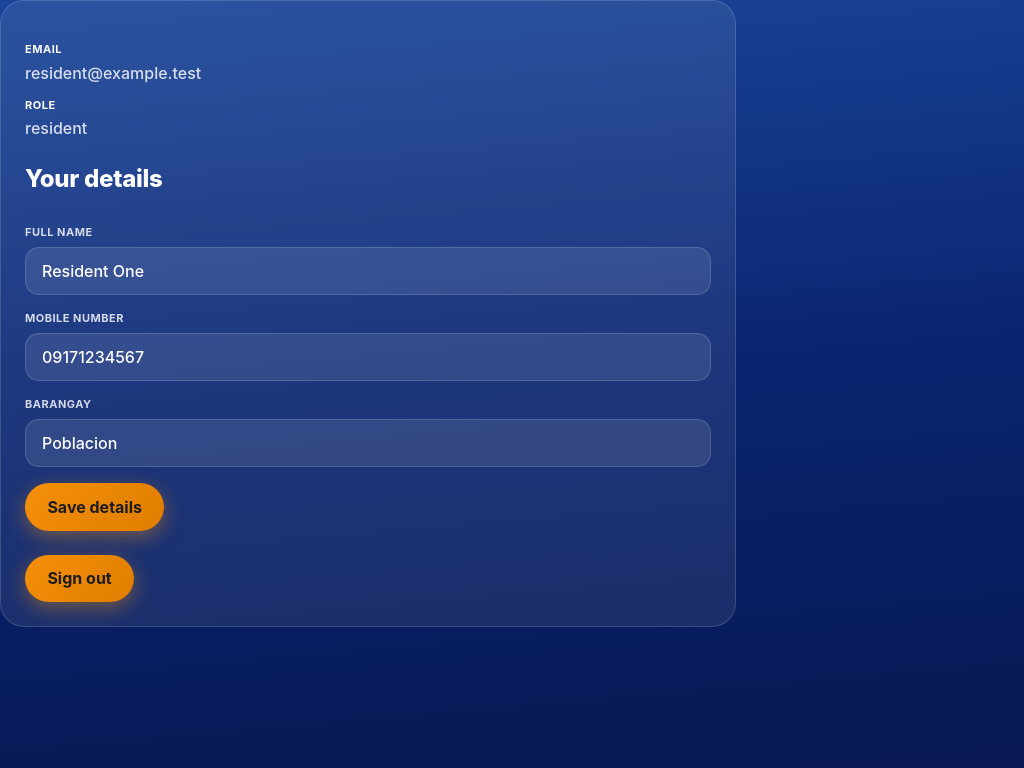
Test: REQ-021: account details › saves name, phone, and barangay for the signed-in account
Step 1. Replace the text in the field labelled "Barangay" with "  Estancia " → [368, 443], box [25,419,711,467]
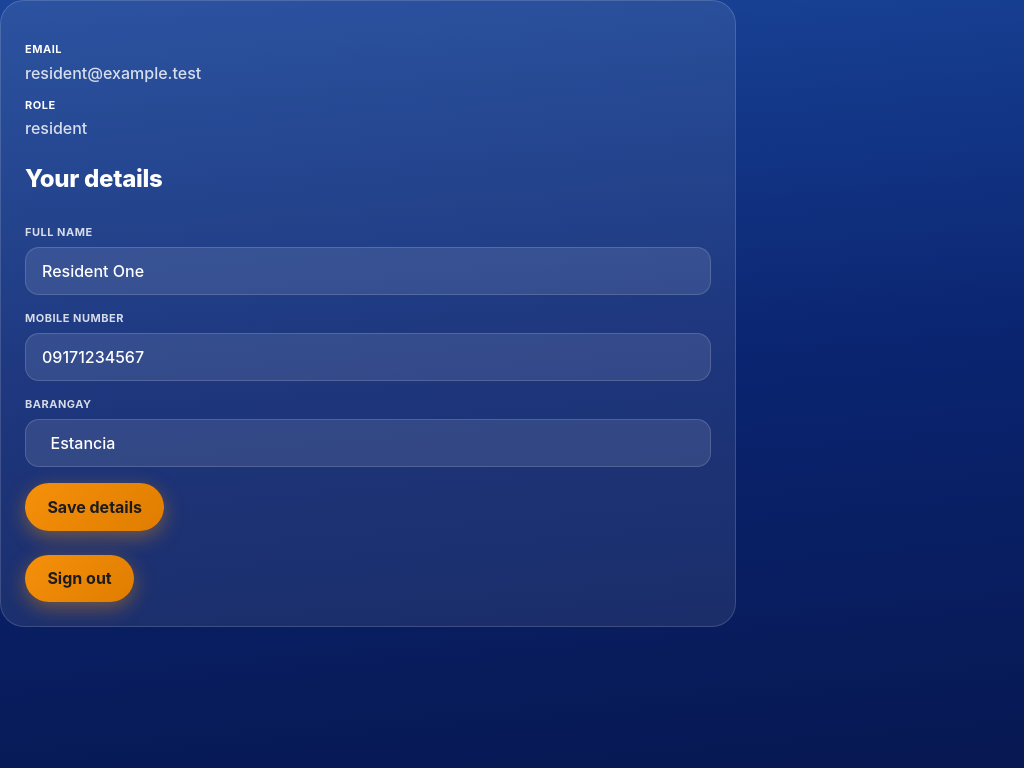
Step 2. Replace the text in the field labelled "Mobile number" with "+63 999 888 7777" → [368, 357], box [25,333,711,381]
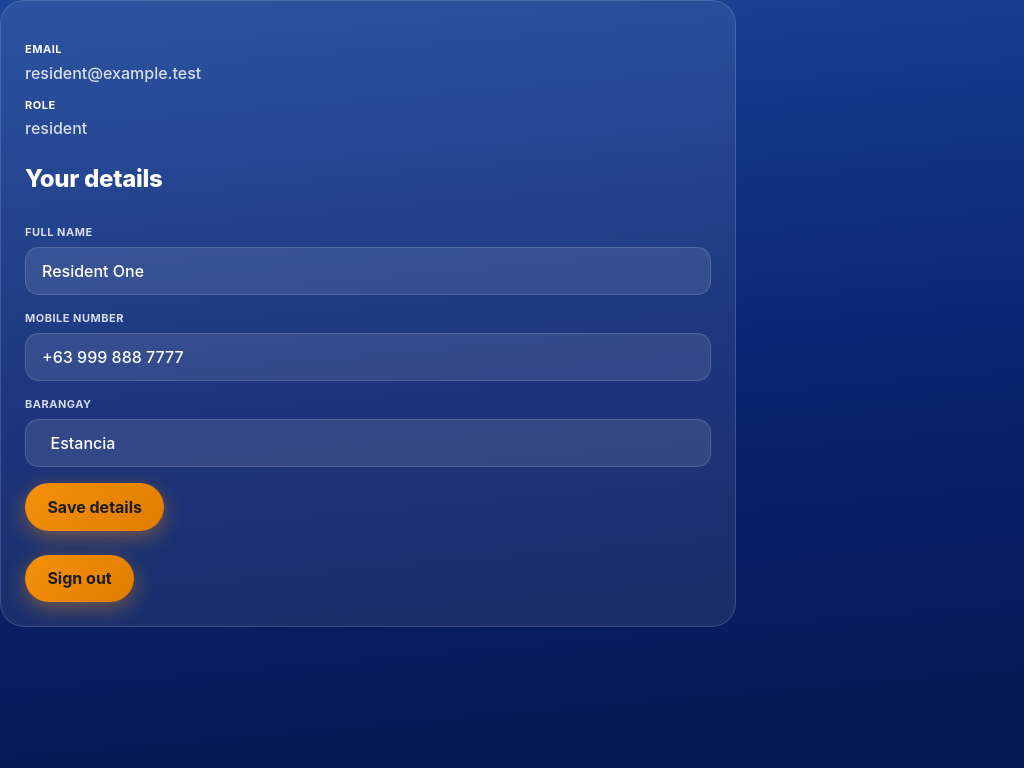
Step 3. Click the button "Save details" → [95, 507], box [25,483,164,531]
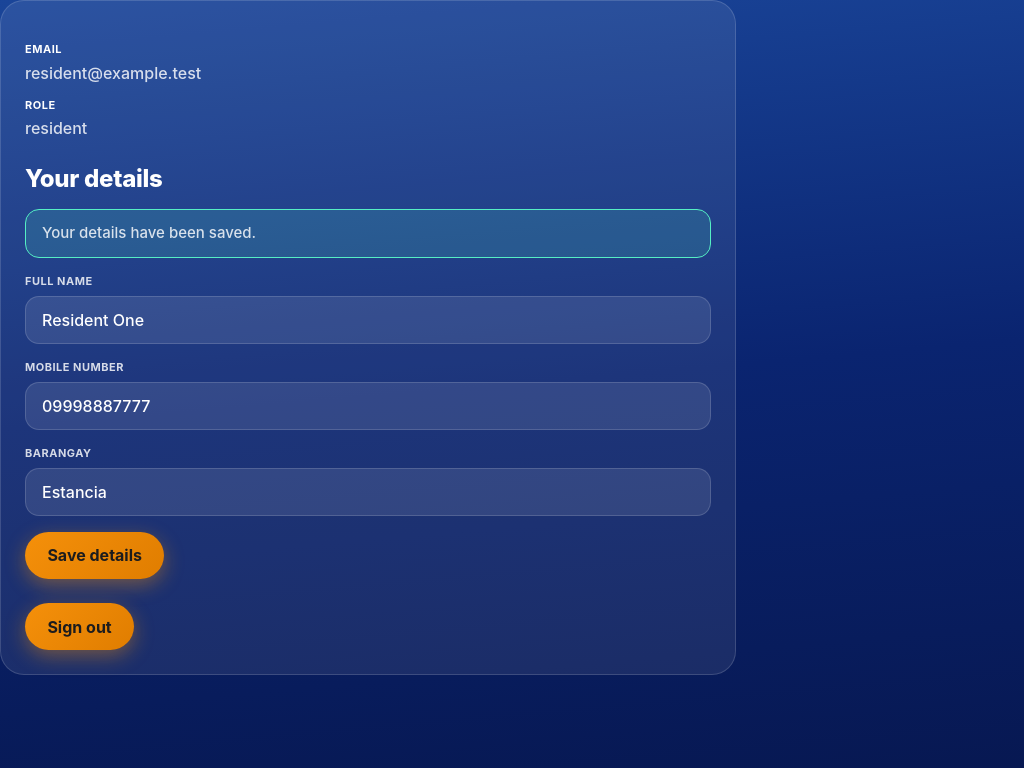
Now the text "Your details have been saved." is shown, box [25,209,711,258]
